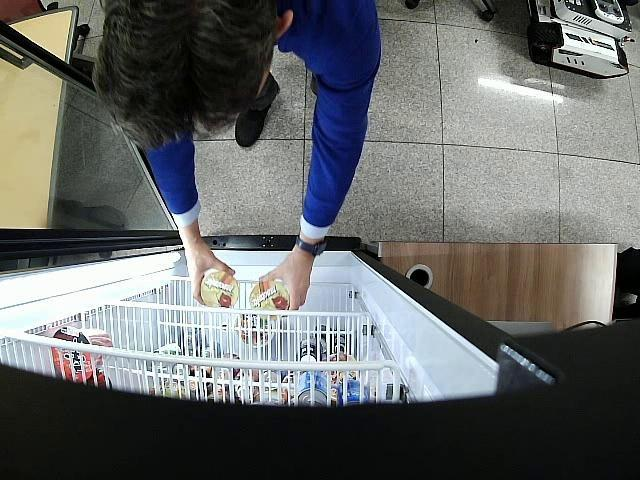04_chapagetti_S: (200, 271, 239, 306), (249, 279, 289, 312)
